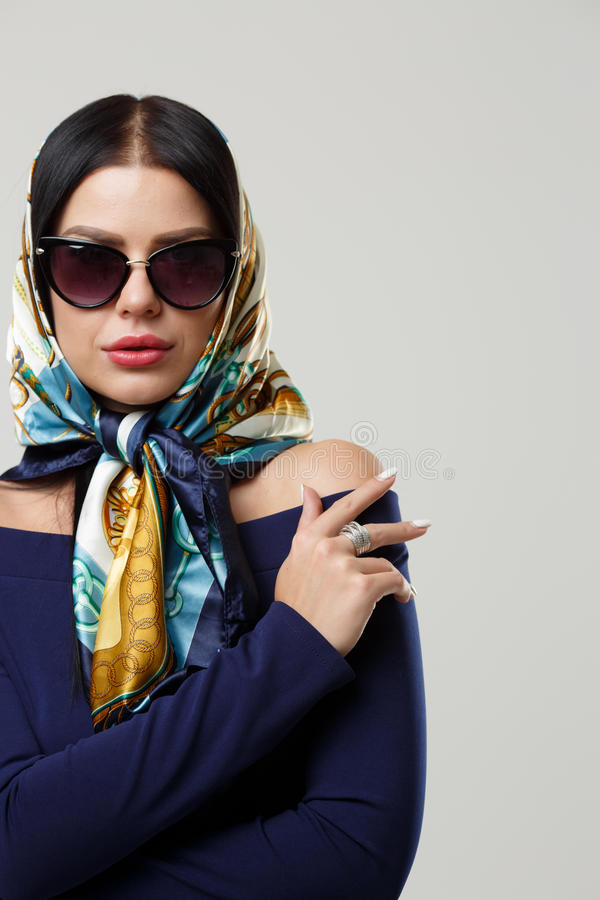glasses: (30, 226, 240, 320)
